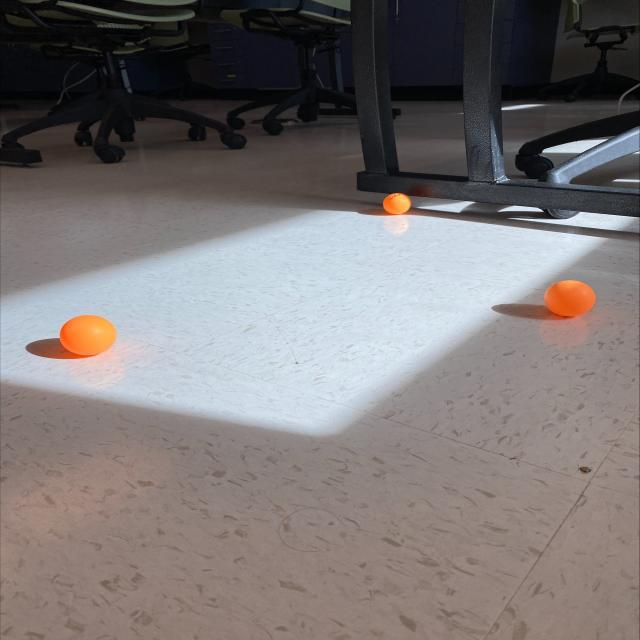ping-pong-ball: (56, 312, 121, 359), (540, 276, 600, 320), (380, 190, 412, 215)
